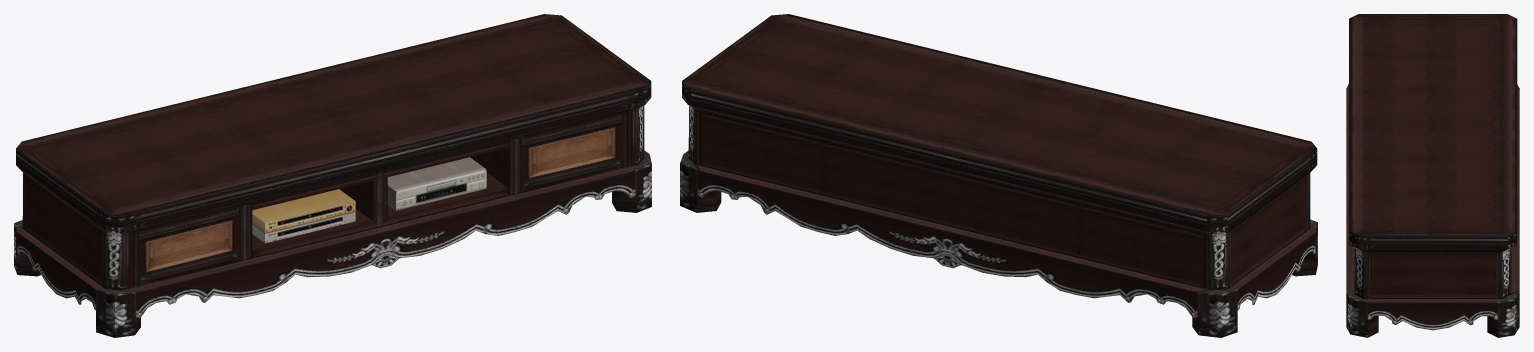
File: furni_0201220.FBX
3 views of the same model, side by side, from view 1: azimuth 30°, elevation 25°; view 2: azimuth 150°, elevation 25°; view 3: azimuth 270°, elevation 25° (orthographic). The views are drawn at different scales.
Parts seen in each view (by area): view 1: furni_0201220; view 2: furni_0201220; view 3: furni_0201220.
Boxes of the visible parts, box(x1,y1,x2,y2) form: furni_0201220: box(14, 14, 651, 337); furni_0201220: box(680, 14, 1317, 337); furni_0201220: box(1346, 14, 1519, 337).
Size of the model in its own units: 239 by 50.05 by 77.86.
Materials: 1 (1 with a texture image).
